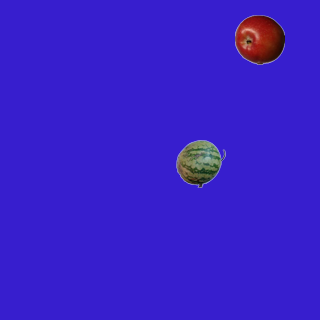Apple Braeburn: (234, 14, 284, 64)
Watermelon: (175, 138, 225, 188)
